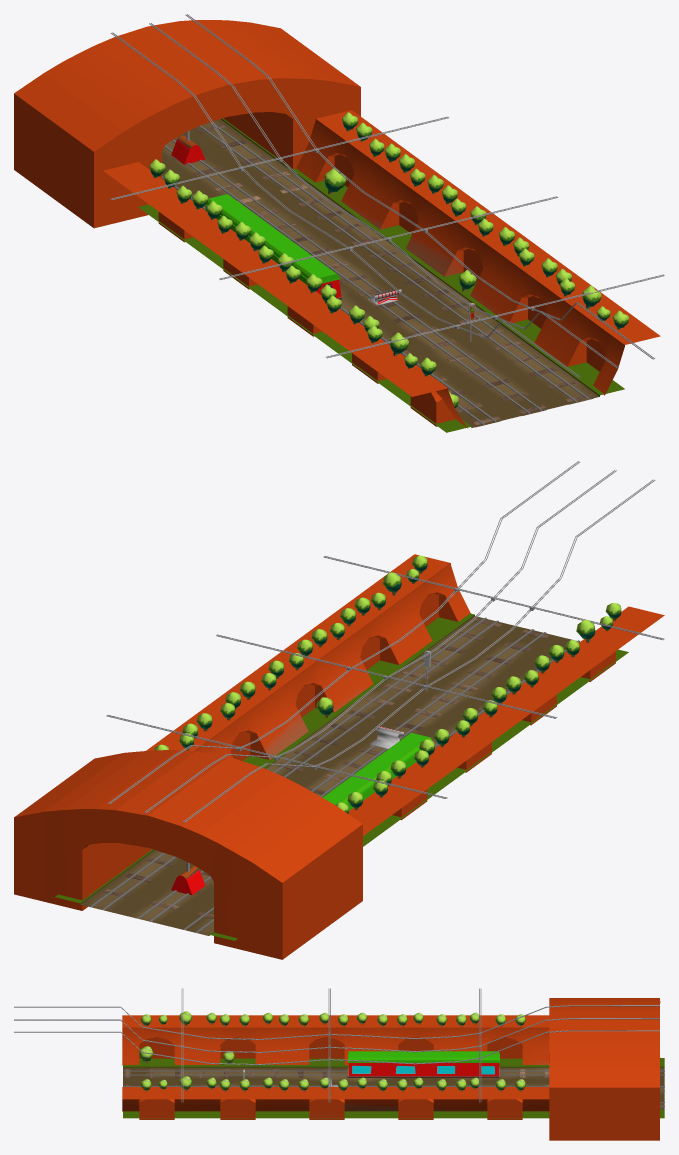
File: SubwaySurfersEnvinorment.fbx
3 renders of one model, top to bottom at view 1: azimuth 30°, elevation 25°; view 2: azimuth 150°, elevation 25°; view 3: azimuth 270°, elevation 25°, orthographic. The views are drawn at different scales.
Parts seen in each view (by area): view 1: Cube, Plane.001, Plane, Plant.018, Cylinder.003, Cube.012, Cube.003, Cube.004, Cube.001, Cube.002, Cube.010; view 2: Cube, Plane.001, Plane, Plant.018, Cylinder.003, Cube.012, Cube.003, Cube.001, Cube.004, Cube.002; view 3: Plane.001, Cube, Plane, Cylinder.003, Plant.018, Cube.012, Cube.005, Cube.006, Cube.001.
Part boxes in pixels (x1,y1,x2,y2): Cube: (14, 20, 360, 228); Plane.001: (103, 110, 660, 428); Plane: (138, 118, 624, 432); Plant.018: (149, 112, 628, 407); Cylinder.003: (110, 14, 664, 377); Cube.012: (205, 194, 341, 299); Cube.003: (199, 122, 589, 401); Cube.004: (197, 124, 593, 404); Cube.001: (164, 139, 542, 413); Cube.002: (171, 137, 546, 415); Cube.010: (171, 130, 205, 164); Cube: (14, 750, 362, 959); Plane.001: (146, 554, 664, 835); Plane: (55, 613, 628, 940); Plant.018: (154, 555, 621, 813); Cylinder.003: (106, 461, 664, 822); Cube.012: (322, 733, 432, 810); Cube.003: (90, 617, 498, 910); Cube.001: (137, 629, 546, 921); Cube.004: (104, 618, 502, 898); Cube.002: (151, 629, 549, 909); Plane.001: (122, 1015, 549, 1119); Cube: (549, 998, 660, 1140); Plane: (123, 1058, 664, 1118); Cylinder.003: (14, 988, 659, 1102); Plant.018: (139, 1011, 525, 1091); Cube.012: (348, 1051, 499, 1077); Cube.005: (123, 1070, 664, 1075); Cube.006: (125, 1069, 549, 1077); Cube.001: (123, 1086, 664, 1091).
Bounding box in the file's own units: 2109 × 676 × 5097.
Materials: 2 (2 with a texture image).
